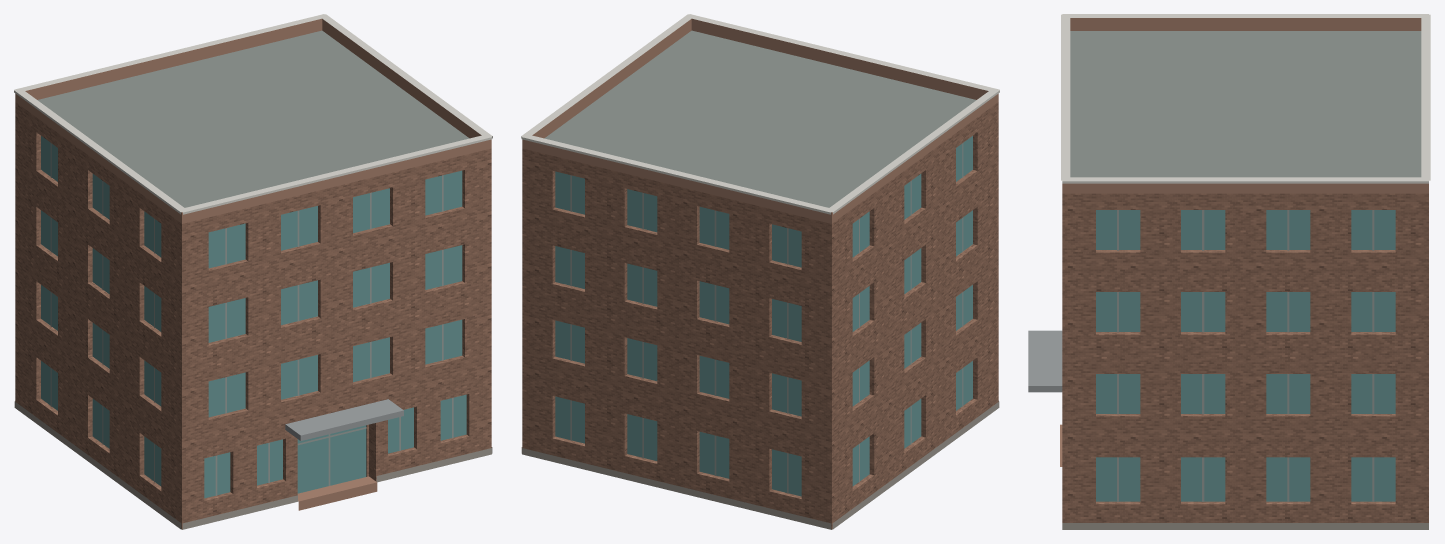
The picture shows the model from 3 angles, left to right: view 1: azimuth 30°, elevation 25°; view 2: azimuth 150°, elevation 25°; view 3: azimuth 270°, elevation 25°; orthographic projection. The views are drawn at different scales.
Visible parts, largest first — view 1: raon__wall, raon__roof, raon__glass, raon__parapet, raon__trim, raon__base, raon__frame, raon__canopy, raon__entranceThreshold_0; view 2: raon__wall, raon__roof, raon__glass, raon__parapet, raon__trim, raon__base, raon__frame; view 3: raon__wall, raon__roof, raon__glass, raon__parapet, raon__trim, raon__base, raon__canopy, raon__frame.
Boxes of the visible parts, x1,y1,x2,y2 form: raon__wall: (15, 102, 491, 529); raon__roof: (37, 30, 469, 529); raon__glass: (41, 136, 466, 498); raon__parapet: (15, 18, 491, 223); raon__trim: (14, 14, 492, 214); raon__base: (14, 401, 492, 529); raon__frame: (50, 143, 453, 495); raon__canopy: (285, 399, 403, 440); raon__entranceThreshold_0: (297, 476, 377, 510); raon__wall: (522, 102, 998, 529); raon__roof: (544, 30, 976, 529); raon__glass: (555, 136, 972, 496); raon__parapet: (522, 18, 998, 223); raon__trim: (521, 14, 999, 214); raon__base: (521, 401, 999, 529); raon__frame: (570, 143, 963, 493); raon__wall: (1062, 193, 1428, 522); raon__roof: (1070, 31, 1421, 177); raon__glass: (1096, 210, 1395, 501); raon__parapet: (1062, 18, 1428, 193); raon__trim: (1061, 14, 1430, 183); raon__base: (1062, 523, 1428, 529); raon__canopy: (1028, 330, 1062, 392); raon__frame: (1117, 210, 1374, 501).
Size of the model in its own units: 15.12 by 15.1 by 15.36.
10 materials, 1 textured.
